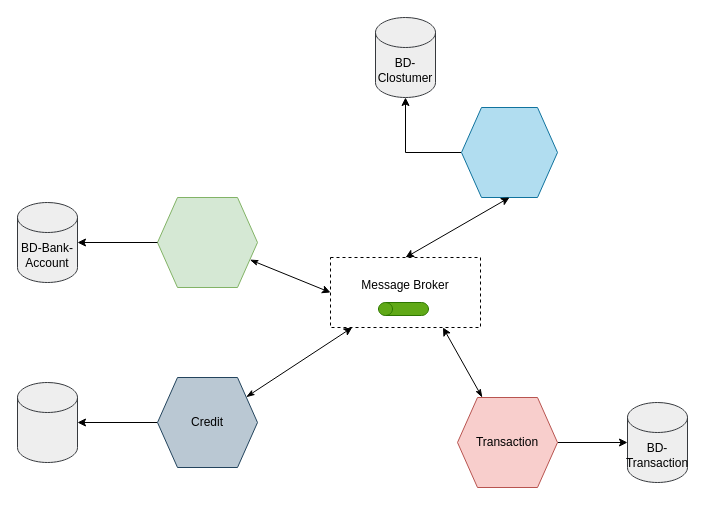
Some shapes in this 706 by 505 pixel diagram are drawn without their labels. Here are the shapes that lost their labels. From the top down, the box of each, then its label:
(460, 106, 558, 198): Customer
(156, 196, 258, 288): Bank_account
(16, 382, 78, 462): BD-Credit
